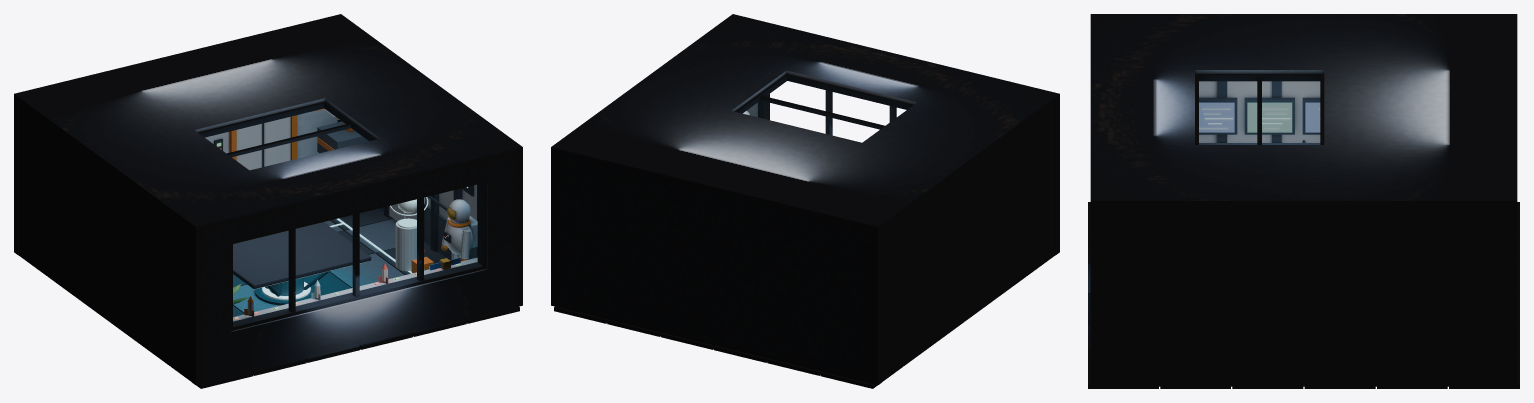
The picture shows the model from 3 angles, left to right: view 1: azimuth 30°, elevation 25°; view 2: azimuth 150°, elevation 25°; view 3: azimuth 270°, elevation 25°; orthographic projection. The views are drawn at different scales.
Visible parts, largest first — view 1: SpaceStation / baked game mesh; view 2: SpaceStation / baked game mesh; view 3: SpaceStation / baked game mesh.
Boxes of the visible parts, <box> form: SpaceStation / baked game mesh: <box>14,14,522,388</box>; SpaceStation / baked game mesh: <box>551,14,1059,388</box>; SpaceStation / baked game mesh: <box>1088,14,1519,388</box>.
Size of the model in its own units: 6.5 by 3.08 by 6.34.
1 material, 1 textured.
